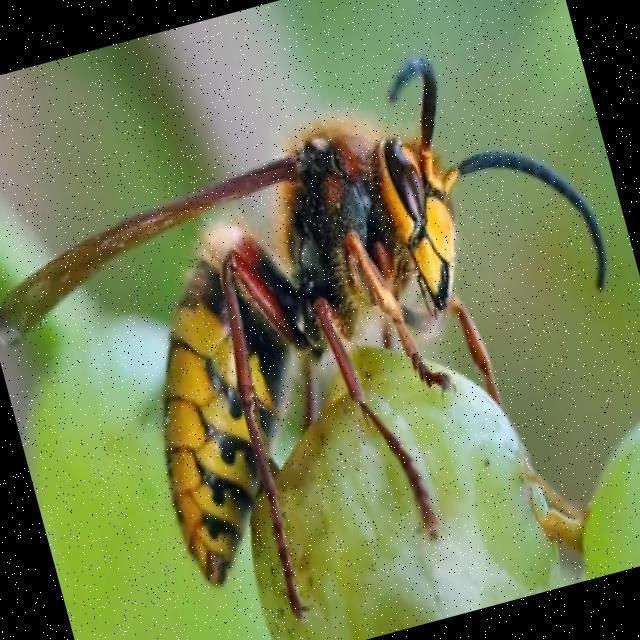Wasp: (11, 66, 606, 590)
